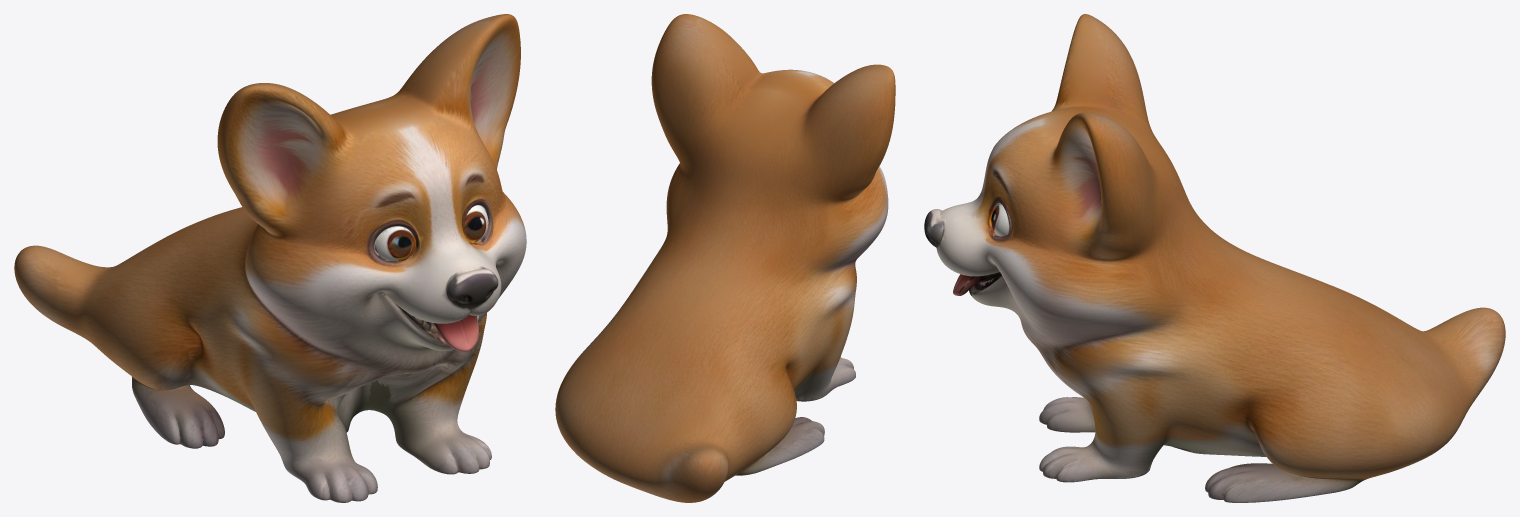
File: corgi.glb
3 views of the same model, side by side, from view 1: azimuth 30°, elevation 25°; view 2: azimuth 150°, elevation 25°; view 3: azimuth 270°, elevation 25° (orthographic). The views are drawn at different scales.
Visible parts, largest first — view 1: node_0; view 2: node_0; view 3: node_0.
Part boxes in pixels (bbox=[...]): node_0: bbox=[14, 14, 526, 502]; node_0: bbox=[555, 14, 895, 502]; node_0: bbox=[924, 14, 1505, 502].
Size of the model in its own units: 0.5244 by 0.7104 by 0.9946.
Materials: 1 (1 with a texture image).
